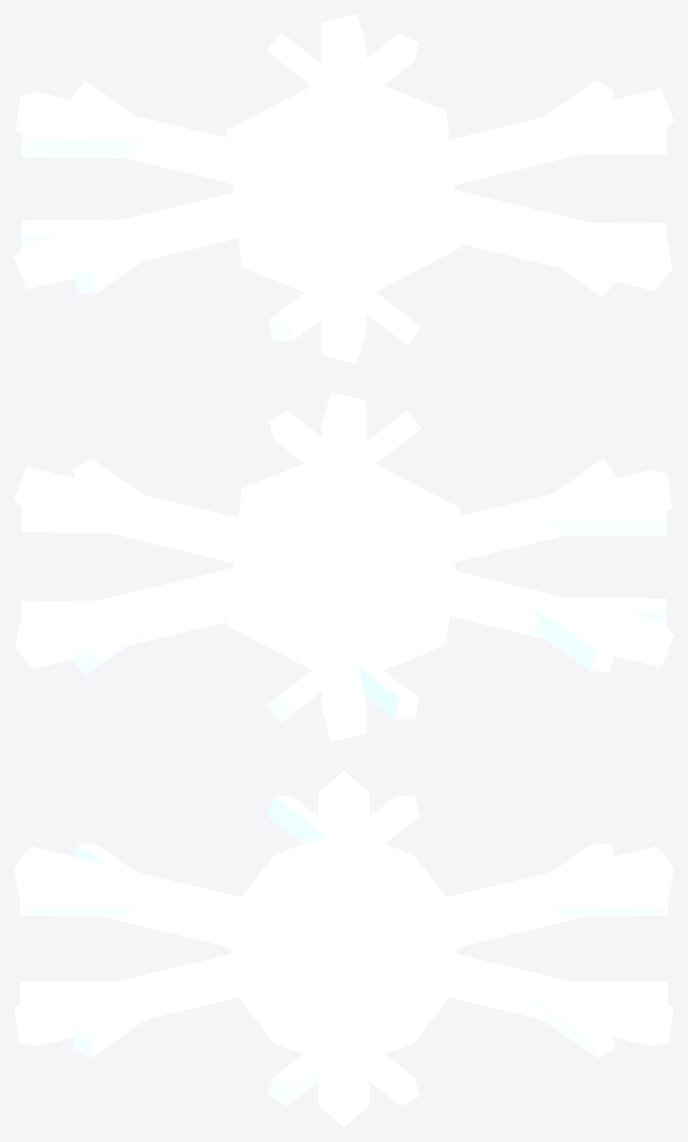
The model's file is snowflake_focus.glb.
The picture shows the model from 3 angles, top to bottom: view 1: azimuth 30°, elevation 25°; view 2: azimuth 150°, elevation 25°; view 3: azimuth 270°, elevation 25°; orthographic projection.
Visible parts, largest first — view 1: FrostCore, SnowArm_5, SnowArm_3, SnowArm_0, SnowArm_2, SnowArm_4, SnowBranch_2_1, SnowBranch_0_-1, SnowBranch_3_1, SnowArm_1, SnowBranch_5_-1, SnowBranch_4_-1 (+7 smaller); view 2: FrostCore, SnowArm_1, SnowArm_3, SnowArm_0, SnowArm_4, SnowArm_2, SnowBranch_4_-1, SnowBranch_0_1, SnowBranch_3_-1, SnowArm_5, SnowBranch_1_1, SnowBranch_2_1 (+7 smaller); view 3: FrostCore, SnowArm_1, SnowArm_5, SnowArm_2, SnowArm_4, SnowArm_0, SnowBranch_2_-1, SnowBranch_4_1, SnowBranch_1_-1, SnowBranch_5_1, SnowArm_3, SnowBranch_0_1 (+7 smaller).
Boxes of the visible parts, box(x1,y1,x2,y2) form: FrostCore: box(226, 69, 461, 292); SnowArm_5: box(425, 187, 672, 290); SnowArm_3: box(14, 187, 264, 289); SnowArm_0: box(449, 88, 673, 185); SnowArm_2: box(15, 92, 232, 183); SnowArm_4: box(321, 214, 366, 363); SnowBranch_2_1: box(21, 125, 143, 158); SnowBranch_0_-1: box(545, 128, 666, 155); SnowBranch_3_1: box(73, 228, 159, 293); SnowArm_1: box(321, 14, 366, 80); SnowBranch_5_-1: box(526, 229, 616, 297); SnowBranch_4_-1: box(268, 275, 328, 341); FrostCore: box(226, 447, 461, 670); SnowArm_1: box(15, 565, 262, 668); SnowArm_3: box(423, 565, 673, 667); SnowArm_0: box(14, 466, 238, 563); SnowArm_4: box(455, 470, 672, 561); SnowArm_2: box(321, 592, 366, 741); SnowBranch_4_-1: box(544, 503, 666, 536); SnowBranch_0_1: box(21, 506, 142, 533); SnowBranch_3_-1: box(528, 606, 614, 671); SnowArm_5: box(321, 392, 366, 458); SnowBranch_1_1: box(71, 607, 161, 675); SnowBranch_2_1: box(359, 653, 419, 719); FrostCore: box(231, 829, 456, 1053); SnowArm_1: box(428, 952, 673, 1046); SnowArm_5: box(14, 952, 259, 1046); SnowArm_2: box(446, 846, 673, 947); SnowArm_4: box(14, 846, 241, 947); SnowArm_0: box(318, 973, 369, 1127); SnowBranch_2_-1: box(546, 886, 668, 916); SnowBranch_4_1: box(19, 886, 141, 916); SnowBranch_1_-1: box(528, 994, 615, 1057); SnowBranch_5_1: box(72, 994, 159, 1057); SnowArm_3: box(318, 770, 369, 833); SnowBranch_0_1: box(355, 1032, 419, 1105).
Bounding box in the file's own units: 1 × 0.36 × 0.8963.
